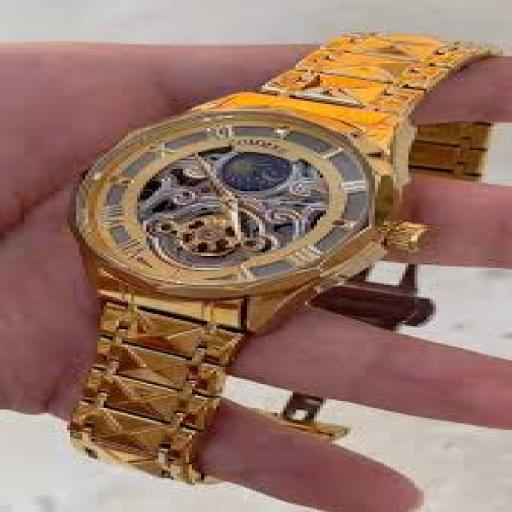KolSaati: (12, 16, 486, 489)
